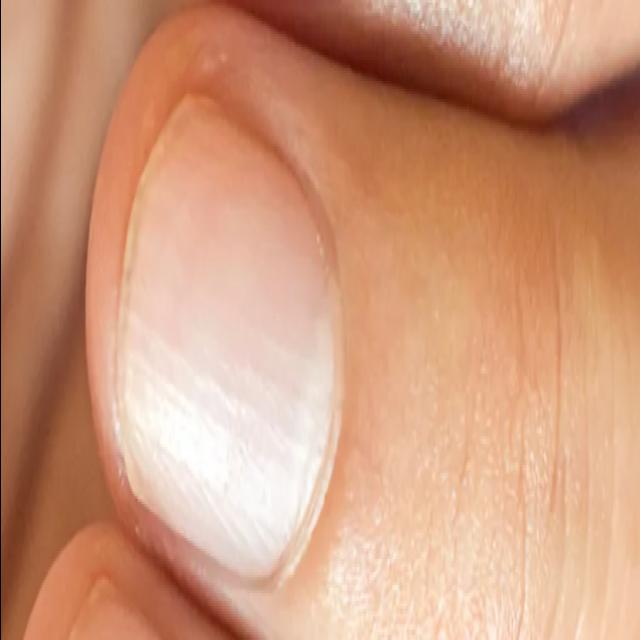Nail: (116, 95, 340, 579)
